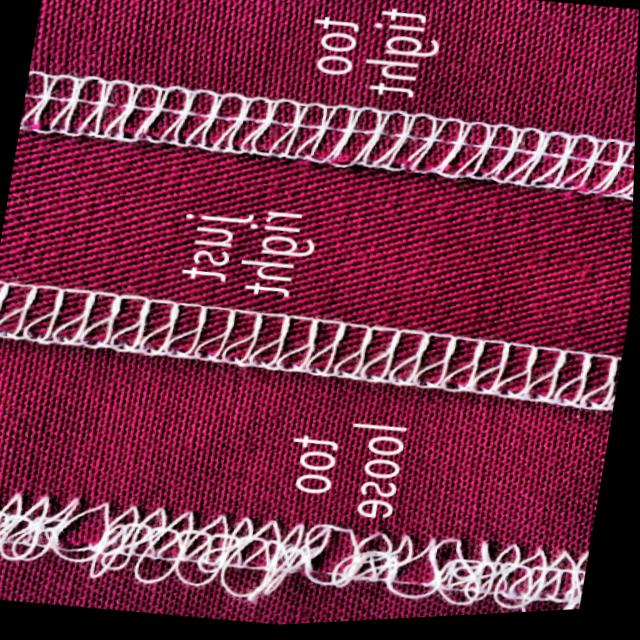Stitch: (0, 466, 558, 640)
